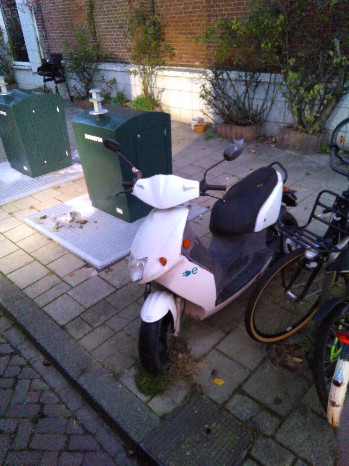Container: (78, 107, 166, 207), (4, 84, 72, 168)
Voertuig: (120, 166, 285, 369), (254, 166, 349, 412)
